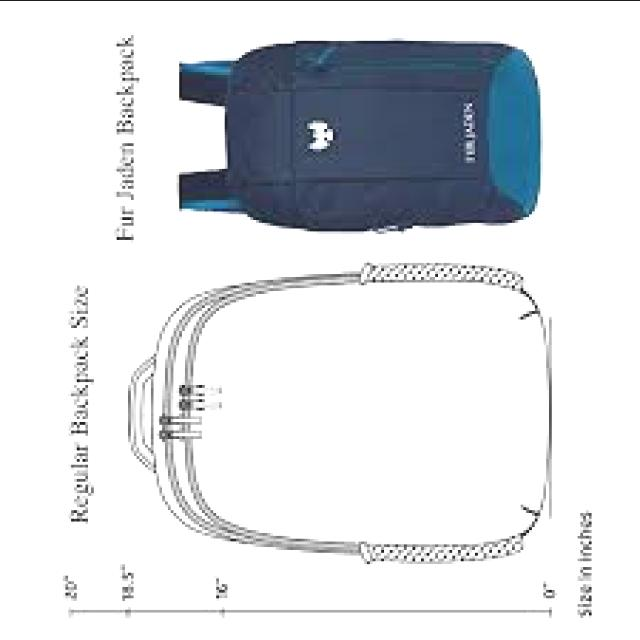backpack: (127, 263, 553, 567), (175, 41, 542, 235)
